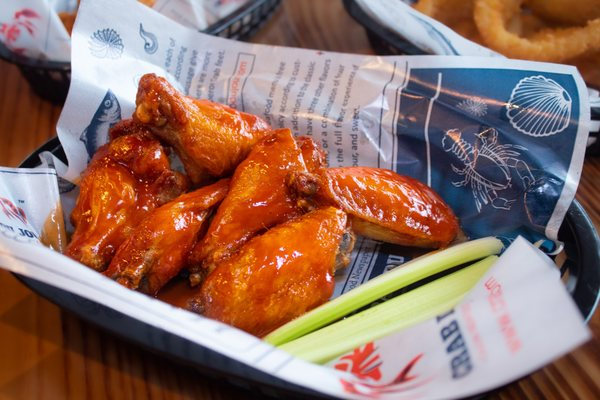salad: (322, 164, 461, 249), (471, 0, 600, 89), (470, 0, 600, 62)
